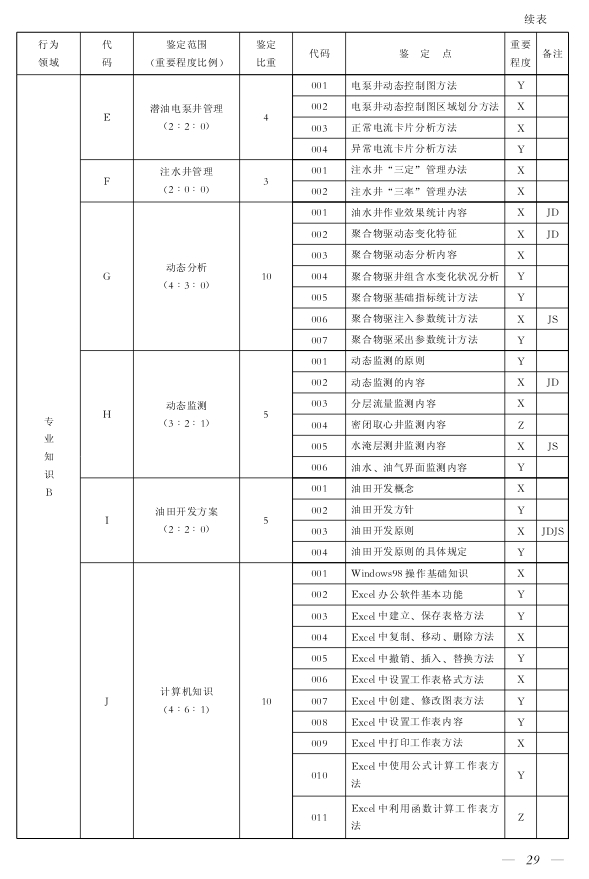table: (16, 30, 569, 838)
